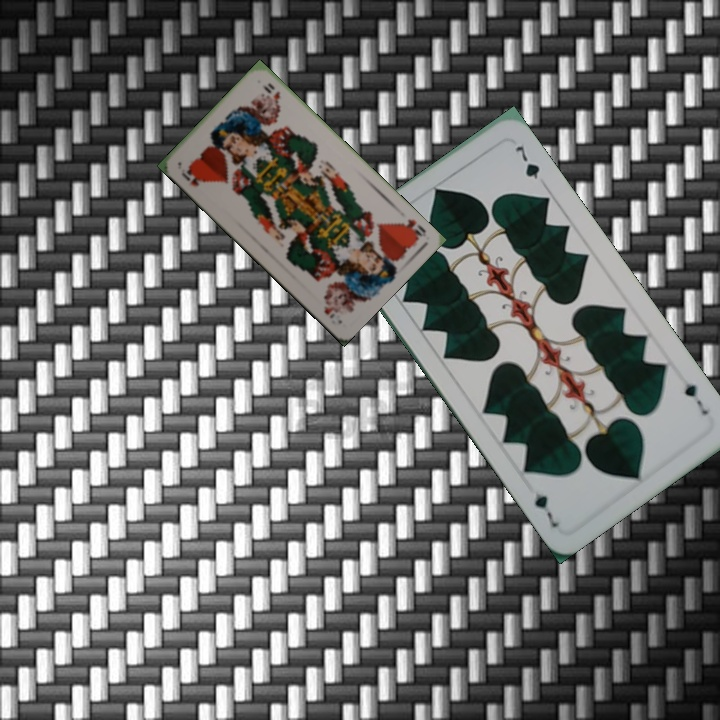G7: (680, 378, 712, 418)
HO: (395, 215, 429, 243), (177, 163, 202, 189)
